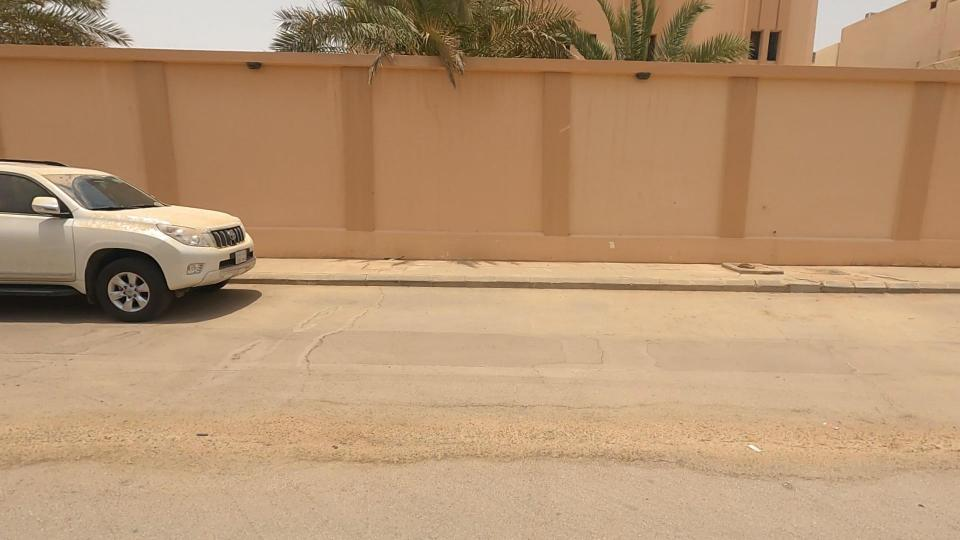POTHOLES: (396, 350, 741, 518), (245, 368, 508, 502)
